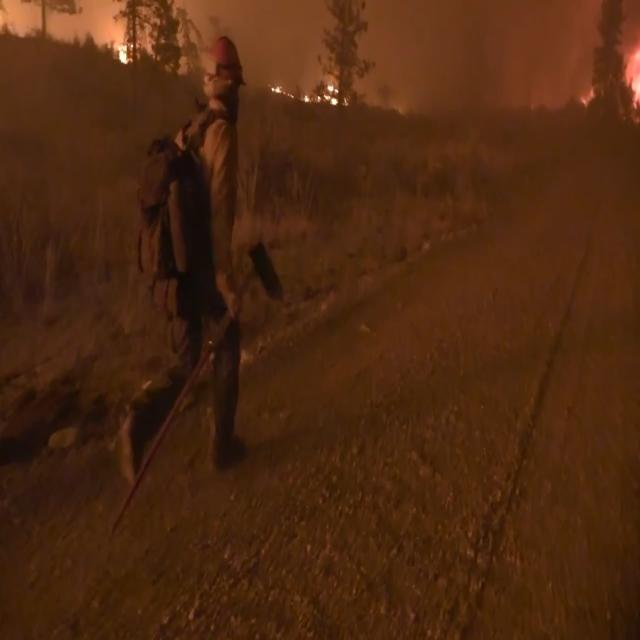Fire: (579, 0, 640, 109)
